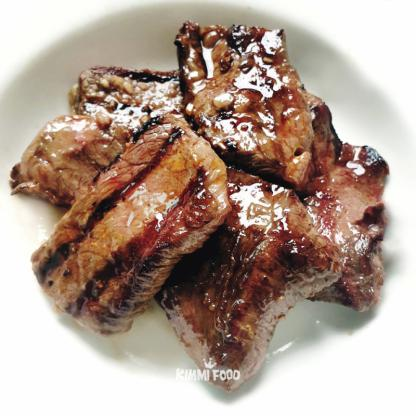Carne: (28, 121, 221, 359), (151, 173, 327, 356), (284, 97, 394, 317), (168, 22, 323, 176), (7, 66, 182, 202)
